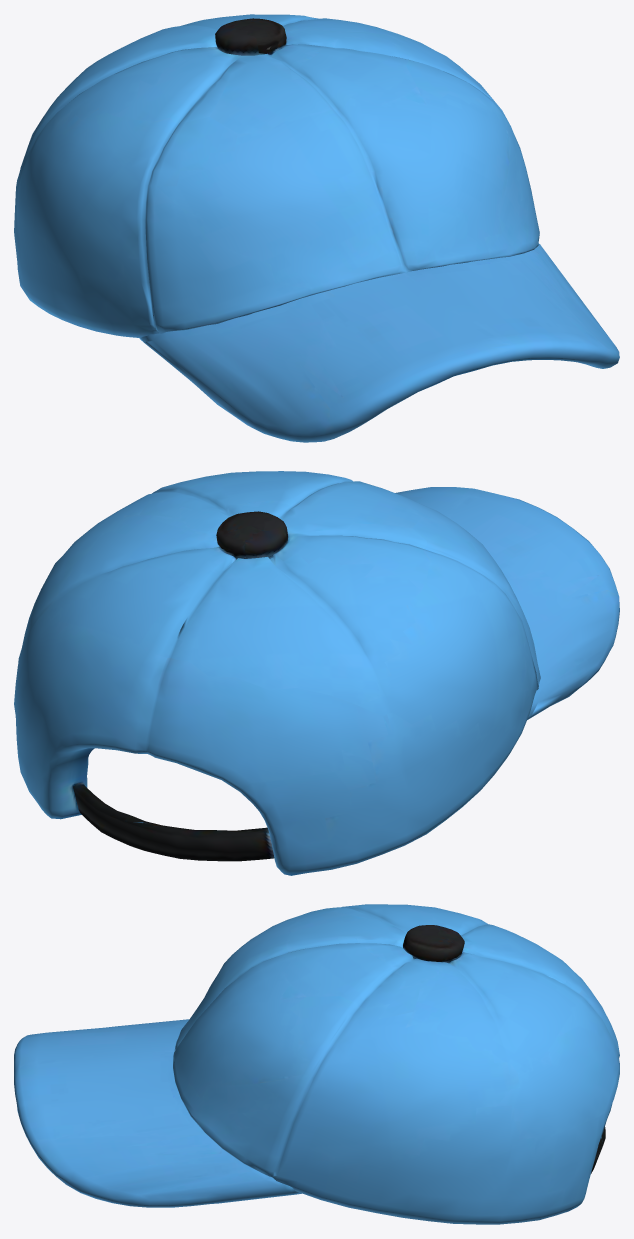
File: cap.90afb039.glb
3 views of the same model, one above another, from view 1: azimuth 30°, elevation 25°; view 2: azimuth 150°, elevation 25°; view 3: azimuth 270°, elevation 25° (orthographic). The views are drawn at different scales.
Visible parts, largest first — view 1: tripo_node_f23cf47d-d6ea-4c83-8321-a64838da7fdb; view 2: tripo_node_f23cf47d-d6ea-4c83-8321-a64838da7fdb; view 3: tripo_node_f23cf47d-d6ea-4c83-8321-a64838da7fdb.
Boxes of the visible parts, x1=… form: tripo_node_f23cf47d-d6ea-4c83-8321-a64838da7fdb: x1=14, y1=14, x2=619, y2=442; tripo_node_f23cf47d-d6ea-4c83-8321-a64838da7fdb: x1=14, y1=471, x2=619, y2=875; tripo_node_f23cf47d-d6ea-4c83-8321-a64838da7fdb: x1=14, y1=904, x2=619, y2=1224.
Bounding box in the file's own units: 0.709 × 0.4121 × 0.998.
1 material, 1 textured.
